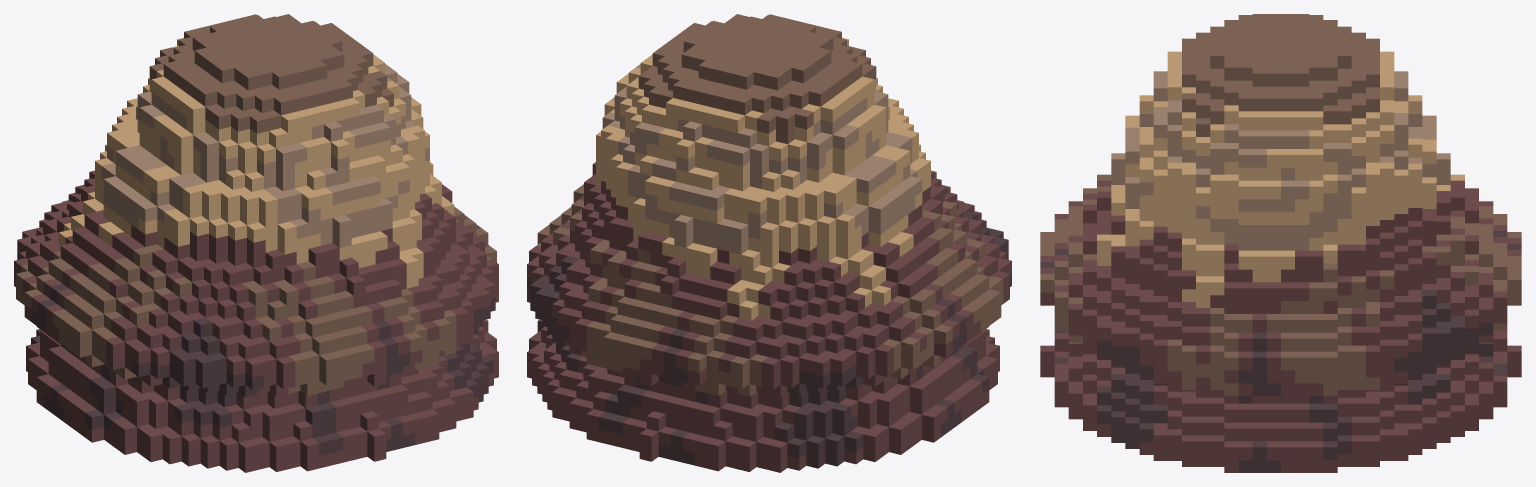
Rendered from Stump2.glb.
The picture shows the model from 3 angles, left to right: view 1: azimuth 30°, elevation 25°; view 2: azimuth 150°, elevation 25°; view 3: azimuth 270°, elevation 25°; orthographic projection. The views are drawn at different scales.
Parts seen in each view (by area): view 1: q0; view 2: q0; view 3: q0.
Part boxes in pixels (x1,y1,x2,y2): q0: (14, 14, 498, 472); q0: (527, 14, 1011, 472); q0: (1040, 14, 1521, 472).
Bounding box in the file's own units: 34 × 30 × 34.
1 material, 1 textured.
